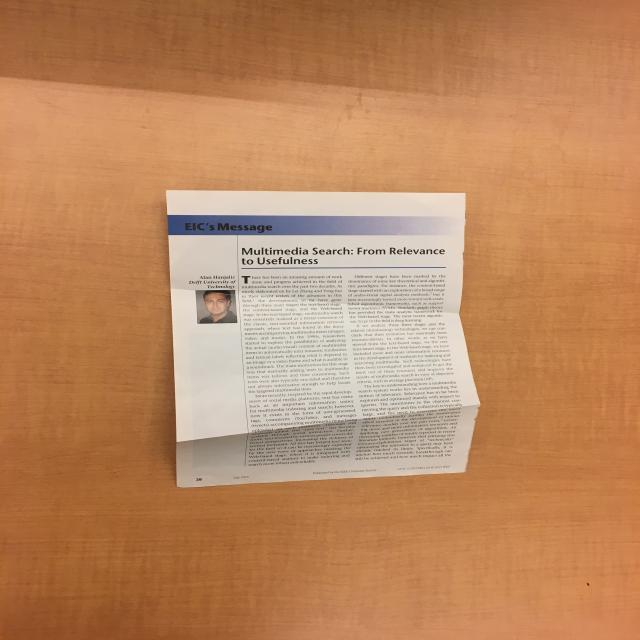document: (167, 191, 478, 488)
